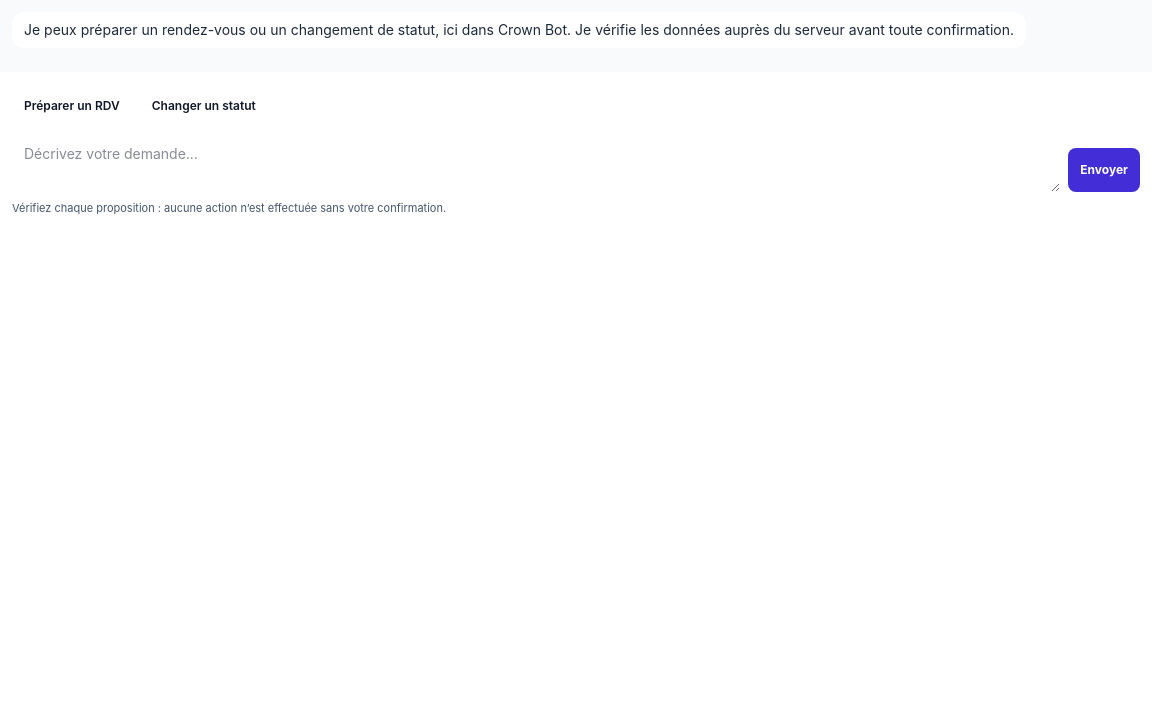
it: CB-03 G5 — genuine chat-style guided action security › G2 status uses server-owned patient/revision not fabricated browser values
Type "Statut RDV 32 en fauteuil" into the text box named "Votre message à Crown Bot".
click(536, 164); type("Statut RDV 32 en fauteuil")  # box [12,136,1060,192]
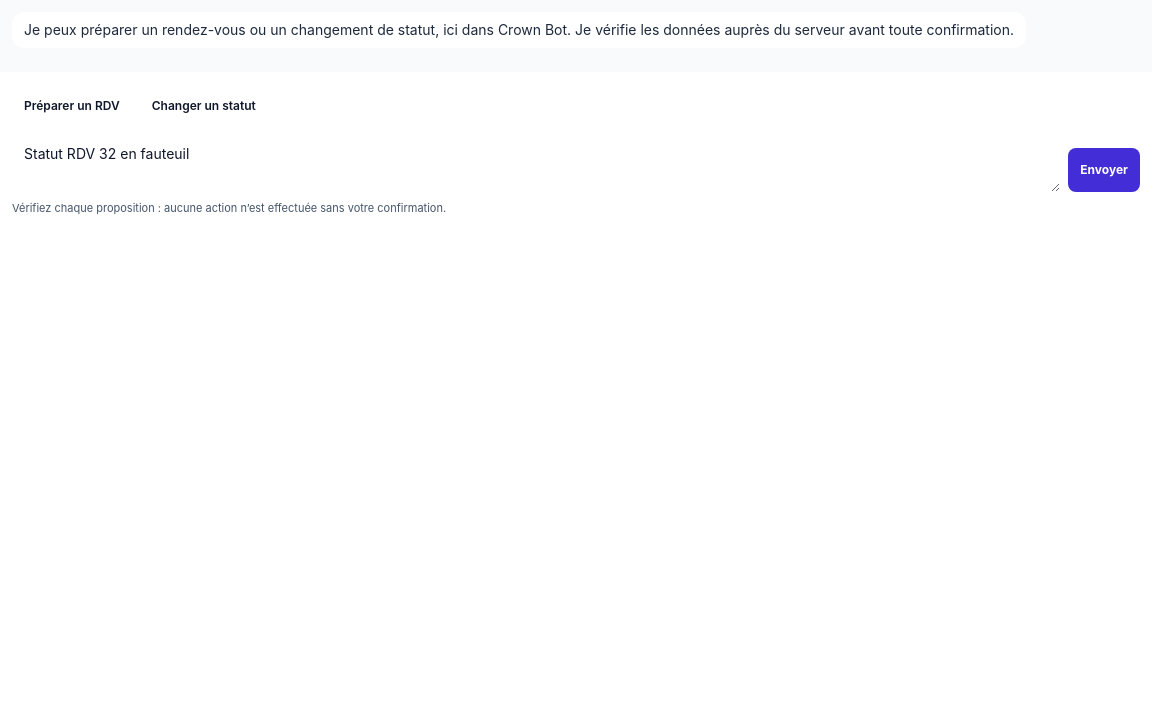
Click the button "Envoyer".
click(1104, 170)  # box [1068,148,1140,192]
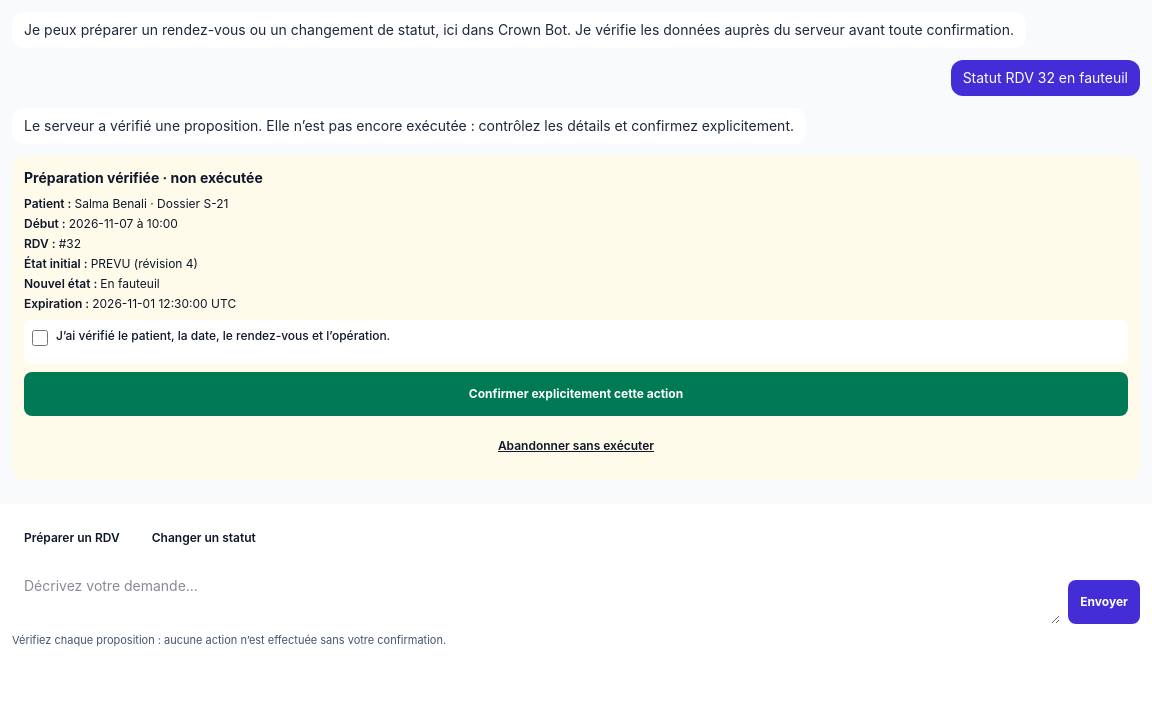
expect the text "En fauteuil" is shown: met, box [100,276,160,291]
expect the button "Confirmer explicitement cette action" is disabled: met, box [24,372,1128,416]
